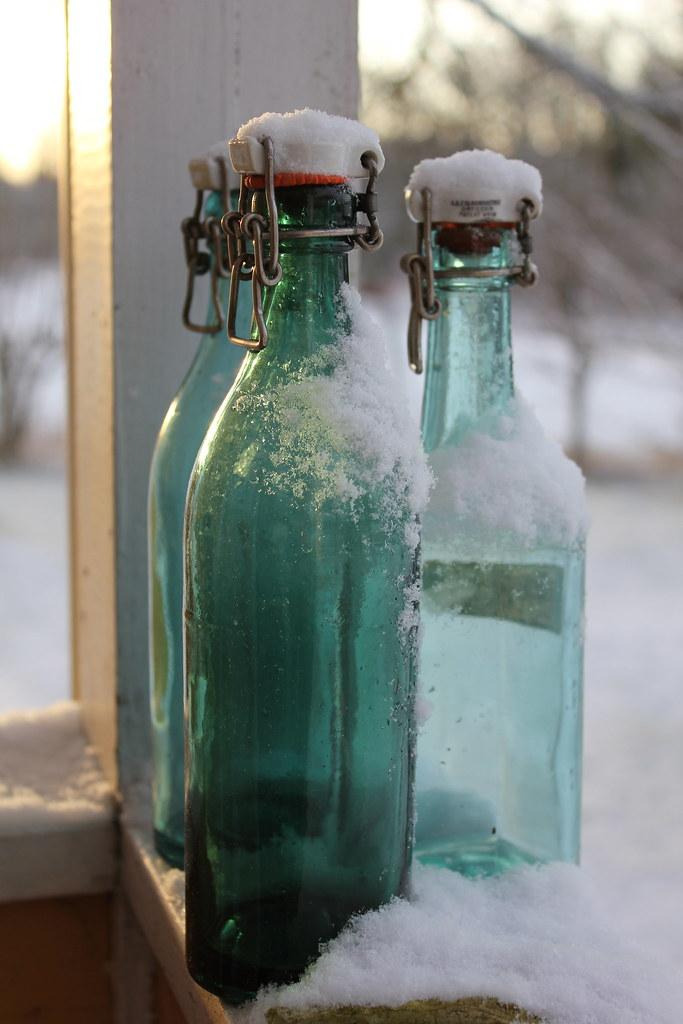bottle: (180, 108, 425, 1006), (400, 148, 590, 884), (146, 144, 258, 873)
